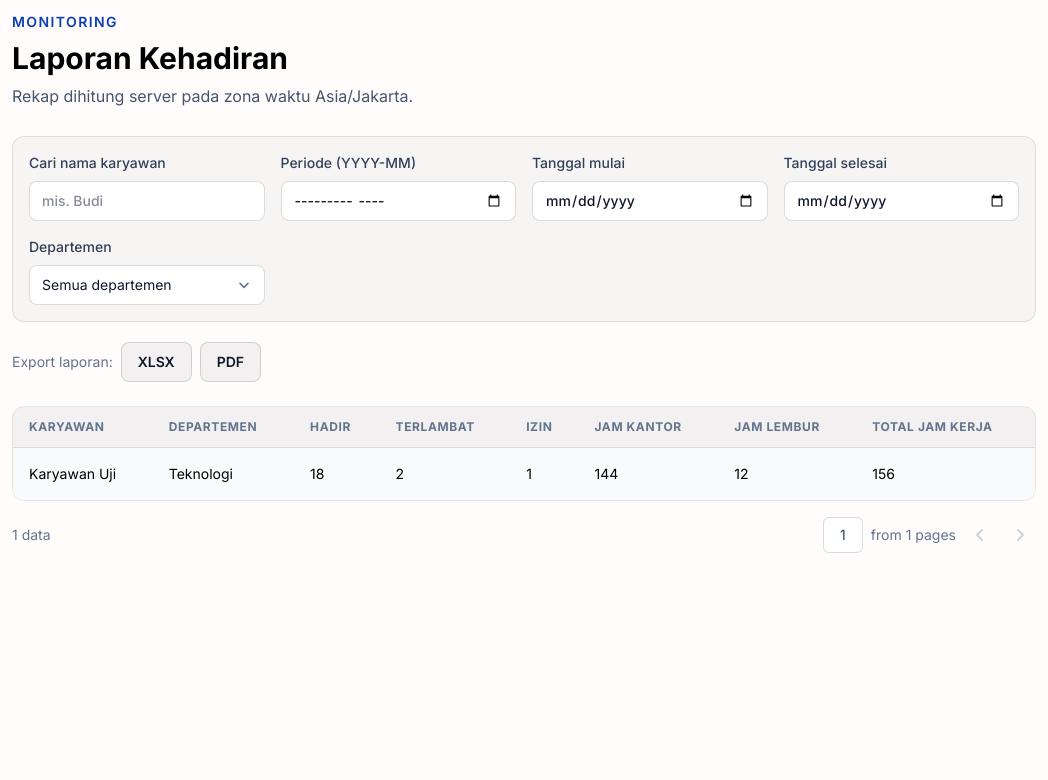
AttendanceReportPage › reports an empty export result without a raw error
The image size is (1048, 780).
What coordinates should you click on to do the following:
click the button "PDF"
I would click on:
 (230, 362)
Its box is 200,342 -> 261,382.
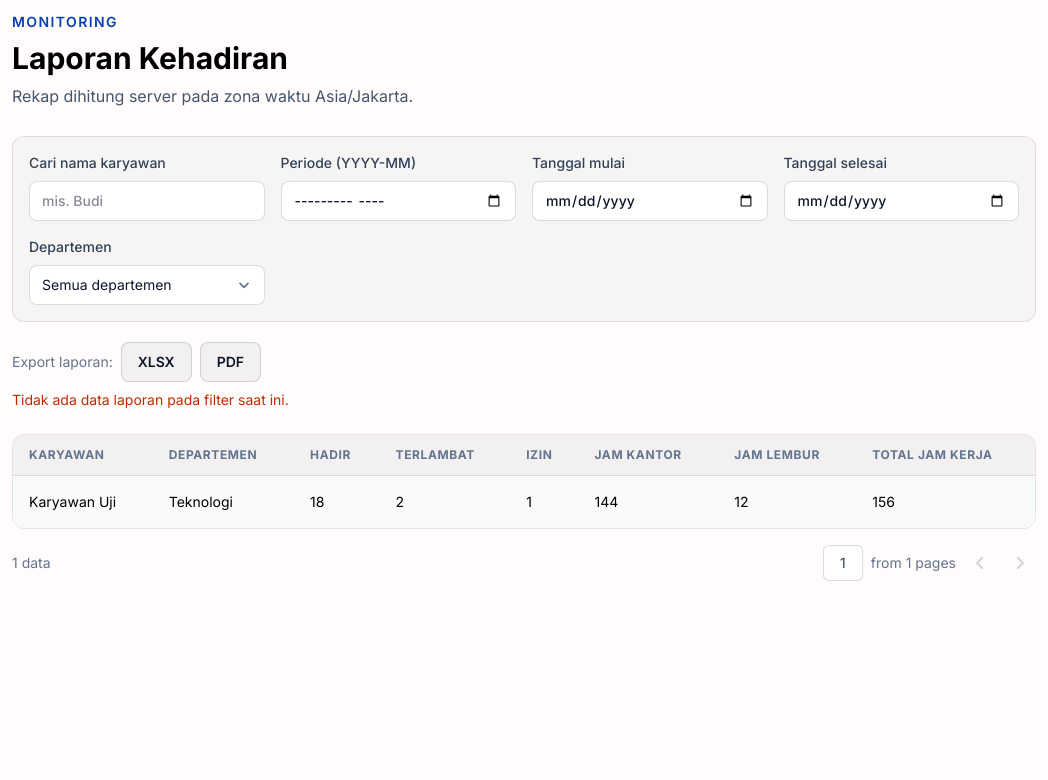
expect the message shows "Tidak ada data laporan": met, box 12,391 -> 289,408
